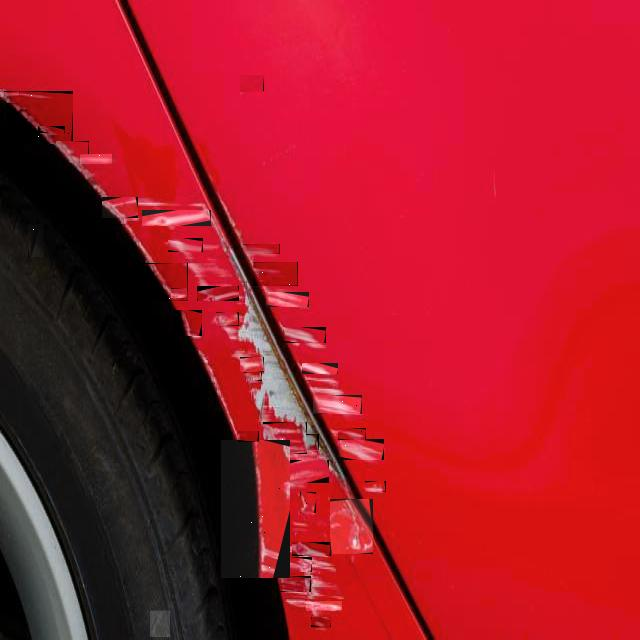Dent: (221, 440, 290, 578), (6, 91, 73, 144), (330, 499, 373, 554), (134, 263, 188, 301), (263, 422, 307, 454), (277, 460, 329, 483), (142, 210, 211, 226), (253, 262, 298, 286), (339, 439, 384, 460), (313, 395, 362, 414), (102, 197, 138, 218), (174, 310, 202, 336), (56, 141, 89, 163), (283, 327, 326, 343), (266, 292, 309, 307), (197, 286, 239, 301), (292, 542, 331, 556), (150, 610, 170, 637), (28, 224, 44, 257), (278, 557, 312, 572), (280, 576, 311, 592), (168, 238, 203, 252), (240, 75, 264, 94), (265, 525, 280, 554), (302, 363, 338, 374), (243, 244, 280, 254), (306, 601, 342, 611), (240, 357, 264, 372), (300, 492, 316, 513), (338, 428, 366, 440), (80, 154, 113, 164), (216, 312, 239, 326), (238, 432, 259, 444), (311, 618, 331, 630), (365, 481, 386, 492), (306, 434, 319, 450), (4, 91, 20, 103), (38, 126, 65, 133), (244, 371, 262, 381), (171, 288, 188, 298), (112, 358, 120, 376)
